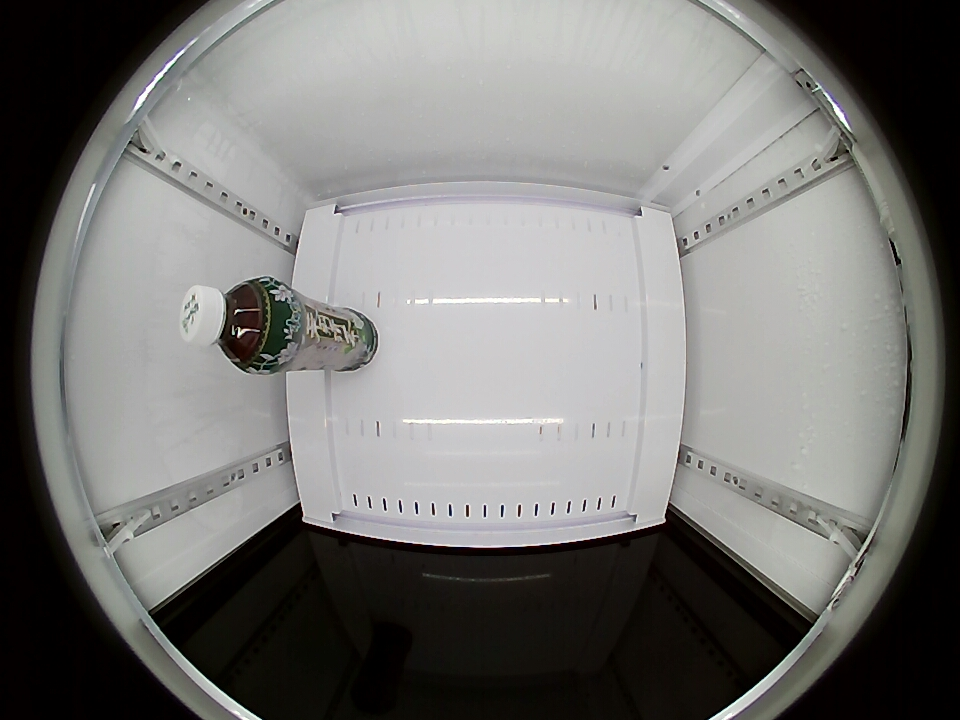moliqingcha: (179, 276, 288, 374)
